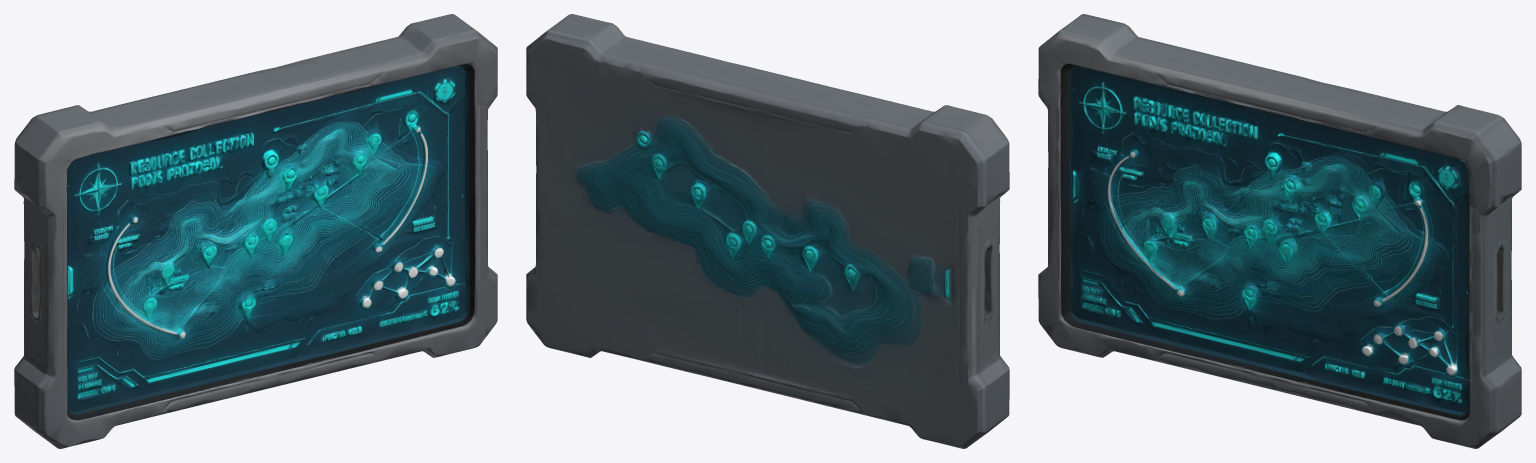
Rendered from Mapa.glb.
3 renders of one model, left to right at view 1: azimuth 30°, elevation 25°; view 2: azimuth 150°, elevation 25°; view 3: azimuth 330°, elevation 25°, orthographic.
Visible parts, largest first — view 1: tripo_node_0f3ce04a-ceb5-4776-92b3-f3ef76a23a8b; view 2: tripo_node_0f3ce04a-ceb5-4776-92b3-f3ef76a23a8b; view 3: tripo_node_0f3ce04a-ceb5-4776-92b3-f3ef76a23a8b.
Part boxes in pixels (x1,y1,x2,y2): tripo_node_0f3ce04a-ceb5-4776-92b3-f3ef76a23a8b: (14,14,497,448); tripo_node_0f3ce04a-ceb5-4776-92b3-f3ef76a23a8b: (526,14,1009,448); tripo_node_0f3ce04a-ceb5-4776-92b3-f3ef76a23a8b: (1038,14,1521,448).
Size of the model in its own units: 0.9791 by 0.6455 by 0.1223.
1 material, 1 textured.
